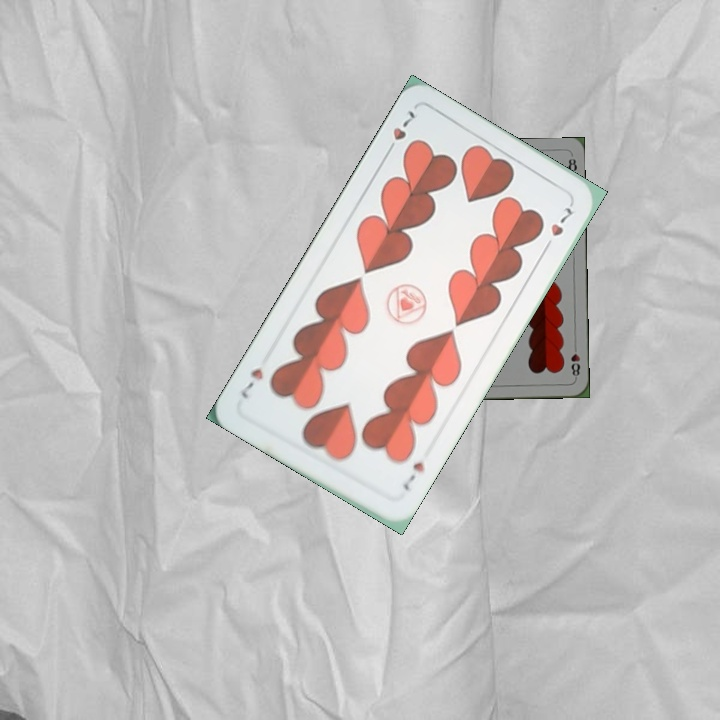H7: (381, 106, 418, 158), (398, 457, 427, 493)
H8: (567, 341, 582, 381)
